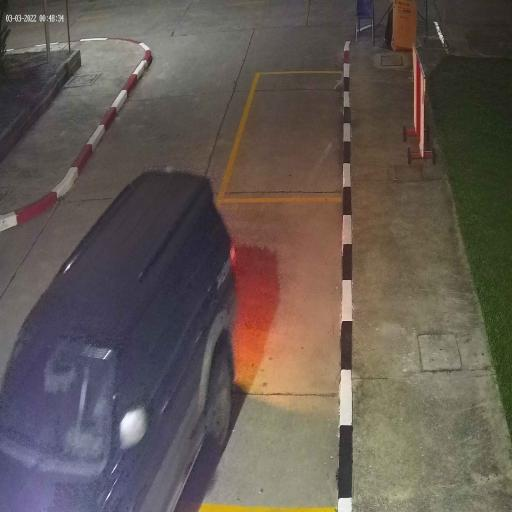car: (0, 175, 237, 511)
